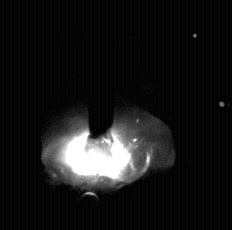arame: (89, 0, 114, 138)
poca: (41, 0, 175, 230)
